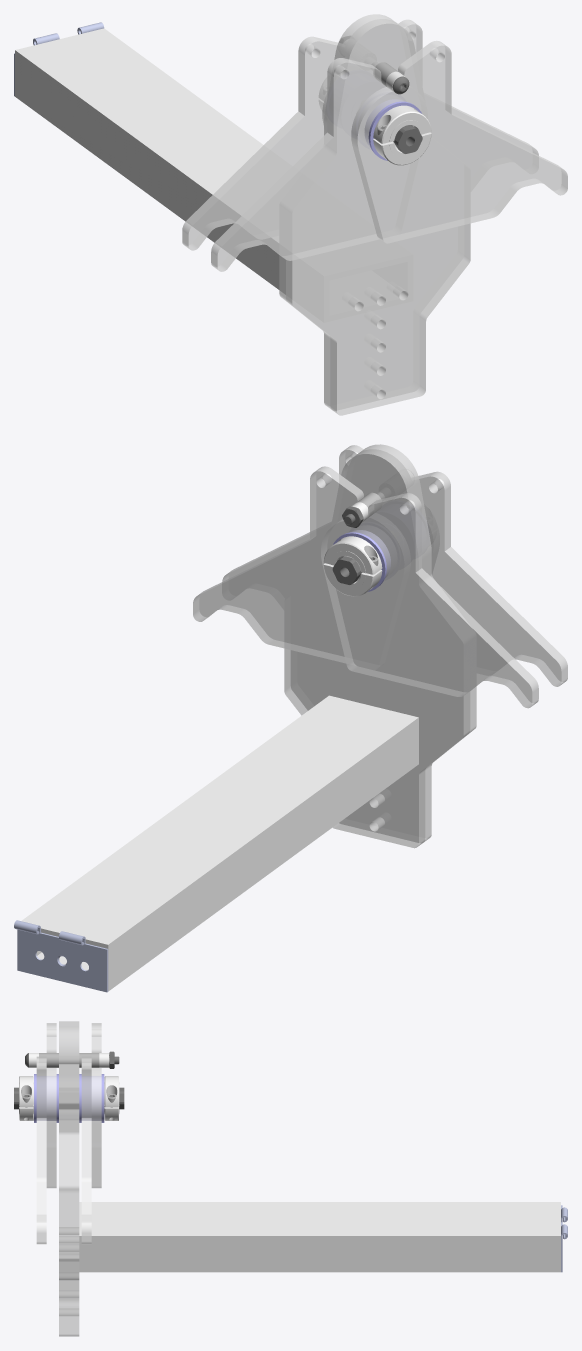
The picture shows the model from 3 angles, top to bottom: view 1: azimuth 30°, elevation 25°; view 2: azimuth 150°, elevation 25°; view 3: azimuth 270°, elevation 25°; orthographic projection. The views are drawn at different scales.
Visible parts, largest first — view 1: Barb Body (×2), Barb Finger (×4), 02_Deep_Climb_Barb_Arm, 1/2" Hex High Strength Clamping Shaft Collar (217-4106) (×2), .5" Hex ID 1.125" OD Flanged Bearing (217-2734), Shaft; view 2: Barb Finger (×4), 02_Deep_Climb_Barb_Arm, Barb Body (×2), Part 1, 1/2" Hex High Strength Clamping Shaft Collar (217-4106) (×2), .5" Hex ID 1.125" OD Flanged Bearing (217-2734); view 3: 02_Deep_Climb_Barb_Arm, Barb Finger (×4), Barb Body (×2), .5" Hex ID 1.125" OD Flanged Bearing (217-2734) (×4), 1/2" Hex High Strength Clamping Shaft Collar (217-4106) (×2), Shaft.
Part boxes in pixels (x1=…): Barb Body (×2): x1=279, y1=14, x2=470, y2=415; Barb Finger (×4): x1=182, y1=19, x2=567, y2=271; 02_Deep_Climb_Barb_Arm: x1=15, y1=28, x2=291, y2=294; 1/2" Hex High Strength Clamping Shaft Collar (217-4106) (×2): x1=373, y1=105, x2=431, y2=165; .5" Hex ID 1.125" OD Flanged Bearing (217-2734): x1=365, y1=99, x2=421, y2=160; Shaft: x1=393, y1=125, x2=422, y2=153; Barb Finger (×4): x1=193, y1=445, x2=567, y2=708; 02_Deep_Climb_Barb_Arm: x1=21, y1=695, x2=418, y2=991; Barb Body (×2): x1=284, y1=444, x2=476, y2=848; Part 1: x1=14, y1=920, x2=108, y2=992; 1/2" Hex High Strength Clamping Shaft Collar (217-4106) (×2): x1=323, y1=536, x2=382, y2=596; .5" Hex ID 1.125" OD Flanged Bearing (217-2734): x1=333, y1=530, x2=390, y2=591; 02_Deep_Climb_Barb_Arm: x1=79, y1=1202, x2=560, y2=1272; Barb Finger (×4): x1=36, y1=1023, x2=101, y2=1244; Barb Body (×2): x1=59, y1=1021, x2=79, y2=1336; .5" Hex ID 1.125" OD Flanged Bearing (217-2734) (×4): x1=34, y1=1074, x2=104, y2=1122; 1/2" Hex High Strength Clamping Shaft Collar (217-4106) (×2): x1=19, y1=1076, x2=119, y2=1107; Shaft: x1=14, y1=1087, x2=124, y2=1109.
Bounding box in the file's own units: 0.1959 × 0.2076 × 0.3505.
